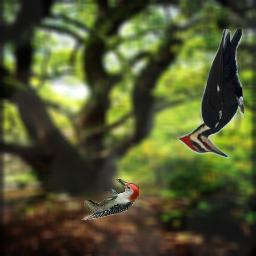Woodpecker: (176, 29, 244, 159), (82, 179, 139, 220)
